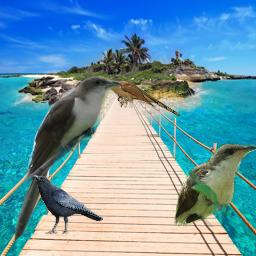Crow: (32, 175, 103, 235)
Cuckoo: (9, 73, 124, 245), (173, 143, 256, 227), (97, 79, 180, 116)
